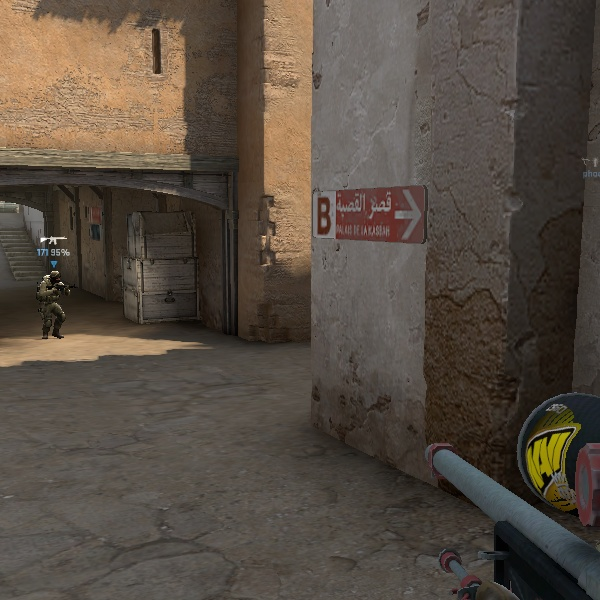ct_body: (35, 271, 68, 337)
ct_head: (50, 271, 62, 284)
